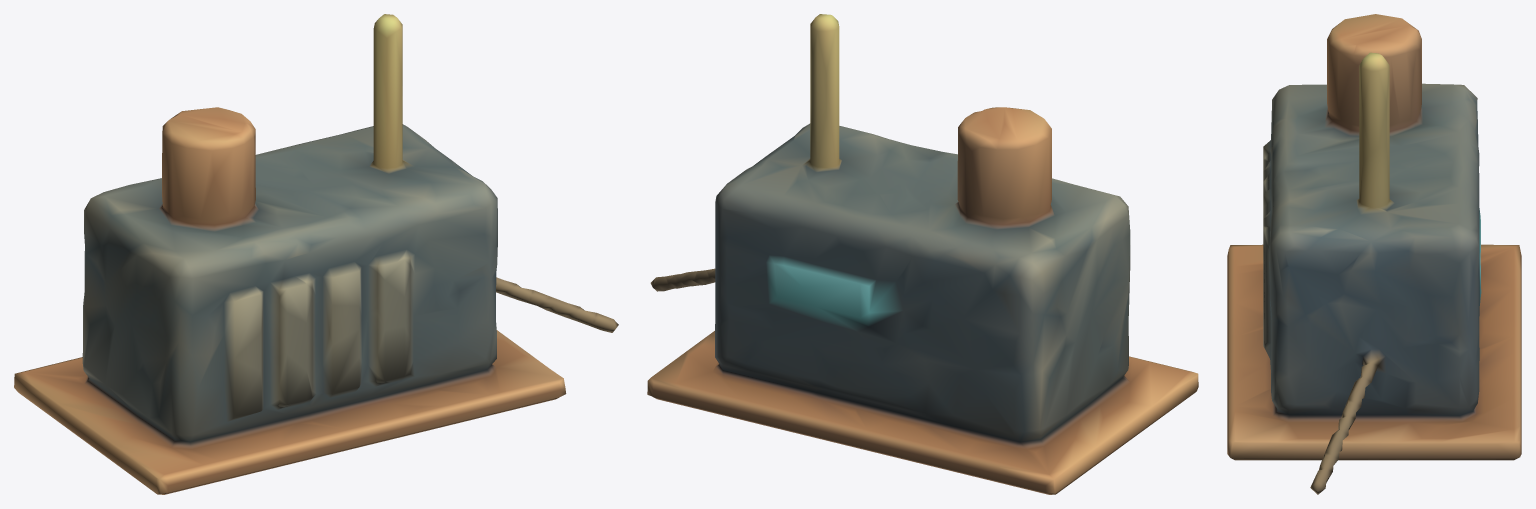
Rendered from env_st_generator.glb.
3 views of the same model, side by side, from view 1: azimuth 30°, elevation 25°; view 2: azimuth 150°, elevation 25°; view 3: azimuth 270°, elevation 25° (orthographic).
Parts seen in each view (by area): view 1: geometry_0; view 2: geometry_0; view 3: geometry_0.
Boxes of the visible parts, <box> form: geometry_0: <box>14,14,618,494</box>; geometry_0: <box>647,14,1198,494</box>; geometry_0: <box>1227,14,1521,494</box>.
Size of the model in its own units: 3.09 by 2.08 by 1.56.
